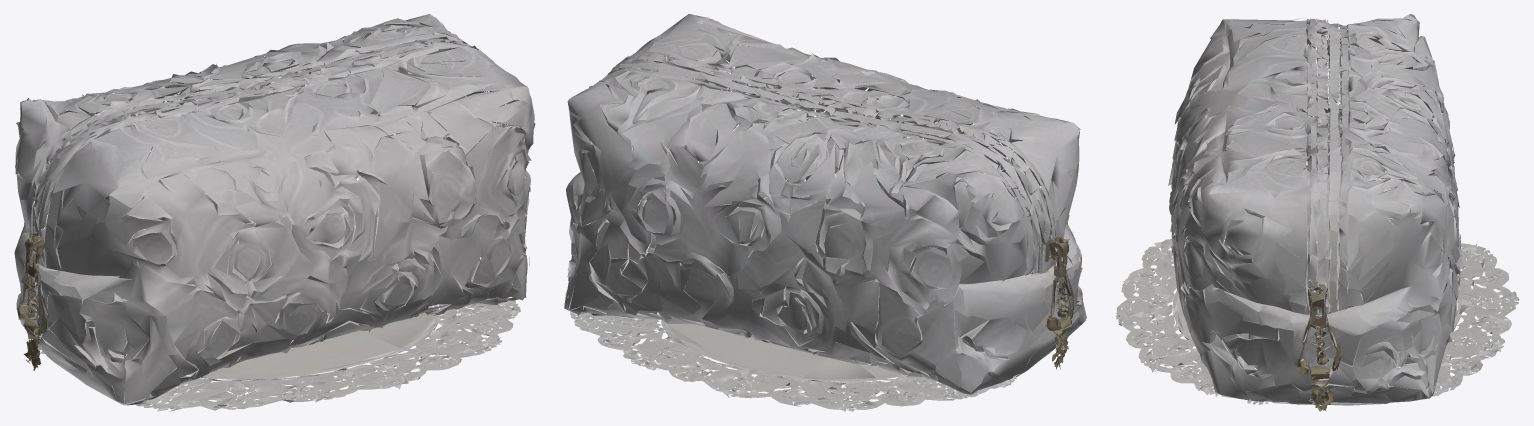
Rendered from bold-flower-pouch.glb.
3 views of the same model, side by side, from view 1: azimuth 30°, elevation 25°; view 2: azimuth 150°, elevation 25°; view 3: azimuth 270°, elevation 25° (orthographic). The views are drawn at different scales.
Visible parts, largest first — view 1: Mesh_0; view 2: Mesh_0; view 3: Mesh_0.
Part boxes in pixels (x1,y1,x2,y2): Mesh_0: (14, 14, 535, 411); Mesh_0: (564, 14, 1086, 411); Mesh_0: (1116, 14, 1519, 411).
Bounding box in the file's own units: 1.92 × 0.8773 × 1.46.
1 material, 1 textured.
